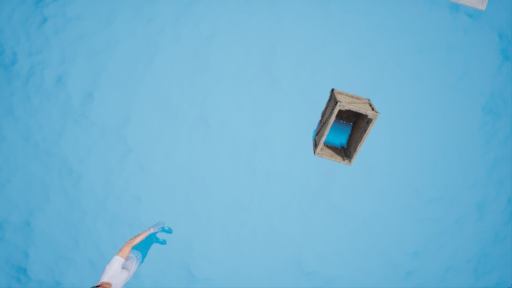person: (97, 219, 194, 288)
